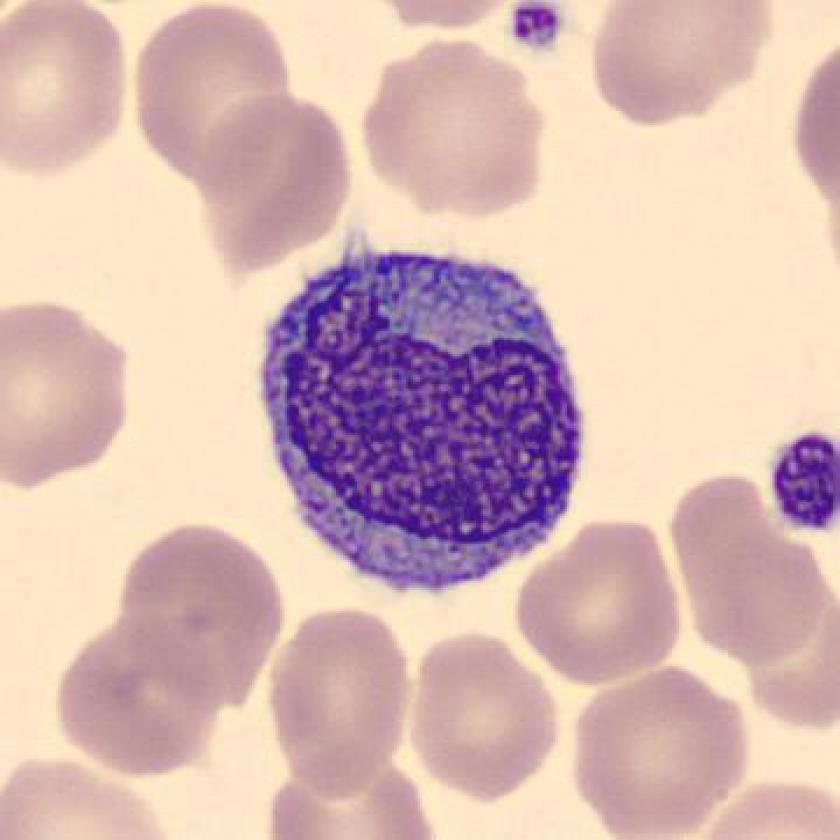monocyte: (239, 219, 610, 608)
